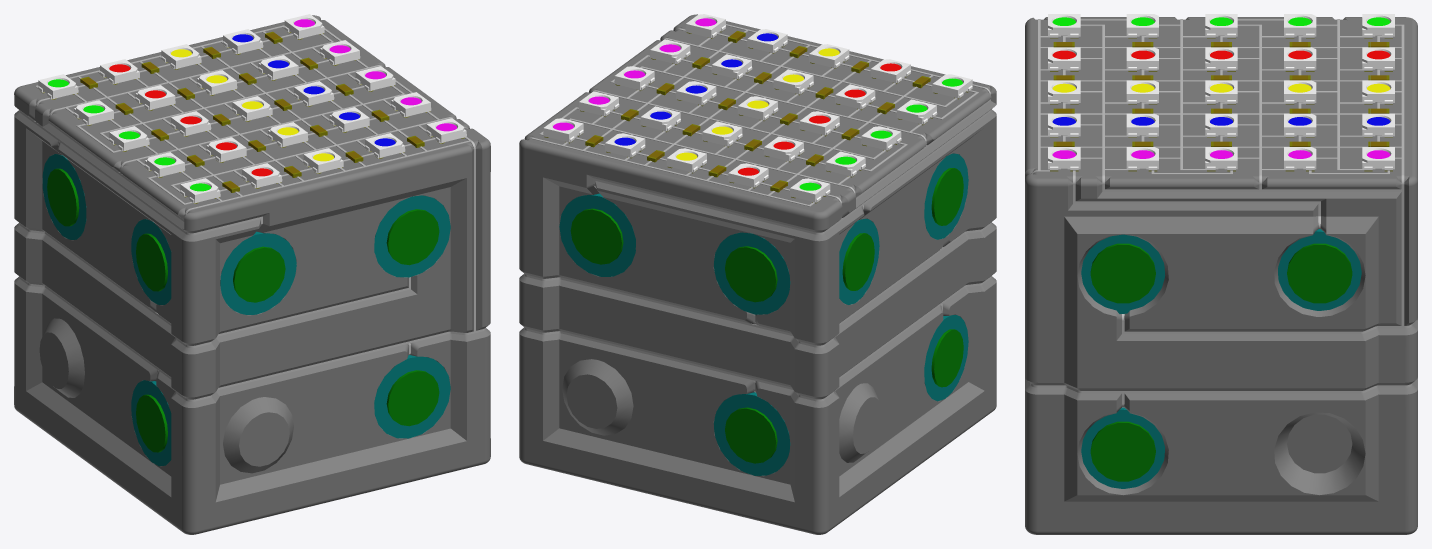
The picture shows the model from 3 angles, left to right: view 1: azimuth 30°, elevation 25°; view 2: azimuth 150°, elevation 25°; view 3: azimuth 270°, elevation 25°; orthographic projection. The views are drawn at different scales.
Visible parts, largest first — view 1: base, leds, resin, traces, magnets, capacitors, pads, rgb2, rgb1, rgb4, rgb3, rgb5; view 2: base, leds, resin, traces, magnets, capacitors, pads, rgb2, rgb3, rgb5, rgb1, rgb4; view 3: base, leds, traces, magnets, resin, capacitors, pads, rgb2, rgb3, rgb4, rgb5, rgb1.
Part boxes in pixels (bbox=[...]): base: bbox=[14, 15, 490, 534]; leds: bbox=[38, 14, 466, 203]; resin: bbox=[42, 154, 450, 466]; traces: bbox=[19, 18, 485, 401]; magnets: bbox=[47, 168, 439, 452]; capacitors: bbox=[81, 32, 422, 191]; pads: bbox=[40, 31, 464, 203]; rgb2: bbox=[109, 64, 272, 176]; rgb1: bbox=[48, 79, 210, 191]; rgb4: bbox=[232, 34, 395, 146]; rgb3: bbox=[171, 49, 333, 161]; rgb5: bbox=[294, 19, 456, 131]; base: bbox=[519, 14, 996, 534]; leds: bbox=[543, 14, 972, 202]; resin: bbox=[559, 153, 968, 475]; traces: bbox=[524, 24, 991, 401]; magnets: bbox=[570, 168, 963, 463]; capacitors: bbox=[587, 31, 929, 190]; pads: bbox=[544, 31, 967, 203]; rgb2: bbox=[738, 63, 901, 175]; rgb3: bbox=[676, 48, 839, 160]; rgb5: bbox=[553, 18, 716, 130]; rgb1: bbox=[799, 78, 962, 190]; rgb4: bbox=[614, 33, 777, 145]; base: bbox=[1025, 17, 1417, 534]; leds: bbox=[1048, 14, 1394, 170]; traces: bbox=[1030, 19, 1412, 407]; magnets: bbox=[1090, 243, 1352, 481]; resin: bbox=[1081, 229, 1361, 488]; capacitors: bbox=[1056, 42, 1386, 146]; pads: bbox=[1050, 38, 1392, 171]; rgb2: bbox=[1052, 50, 1390, 59]; rgb3: bbox=[1052, 83, 1390, 92]; rgb4: bbox=[1052, 117, 1390, 125]; rgb5: bbox=[1052, 150, 1390, 158]; rgb1: bbox=[1052, 17, 1390, 25].
Bounding box in the file's own units: 0.062 × 0.0618 × 0.06.
